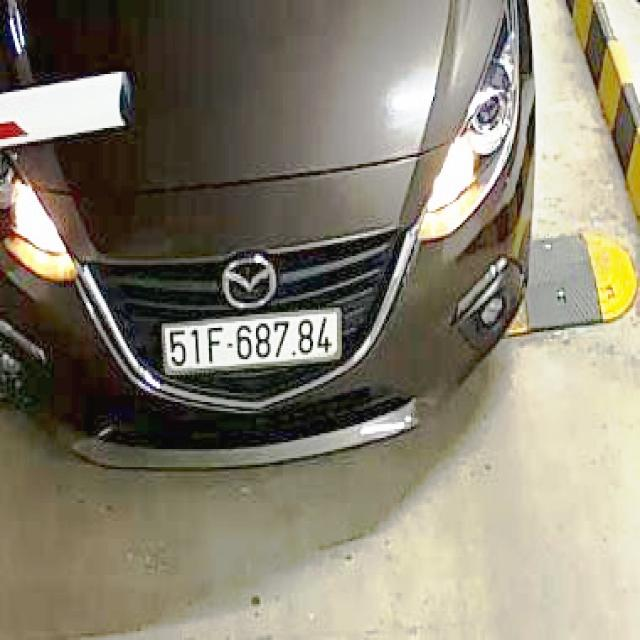license_plate: (166, 313, 342, 373)
